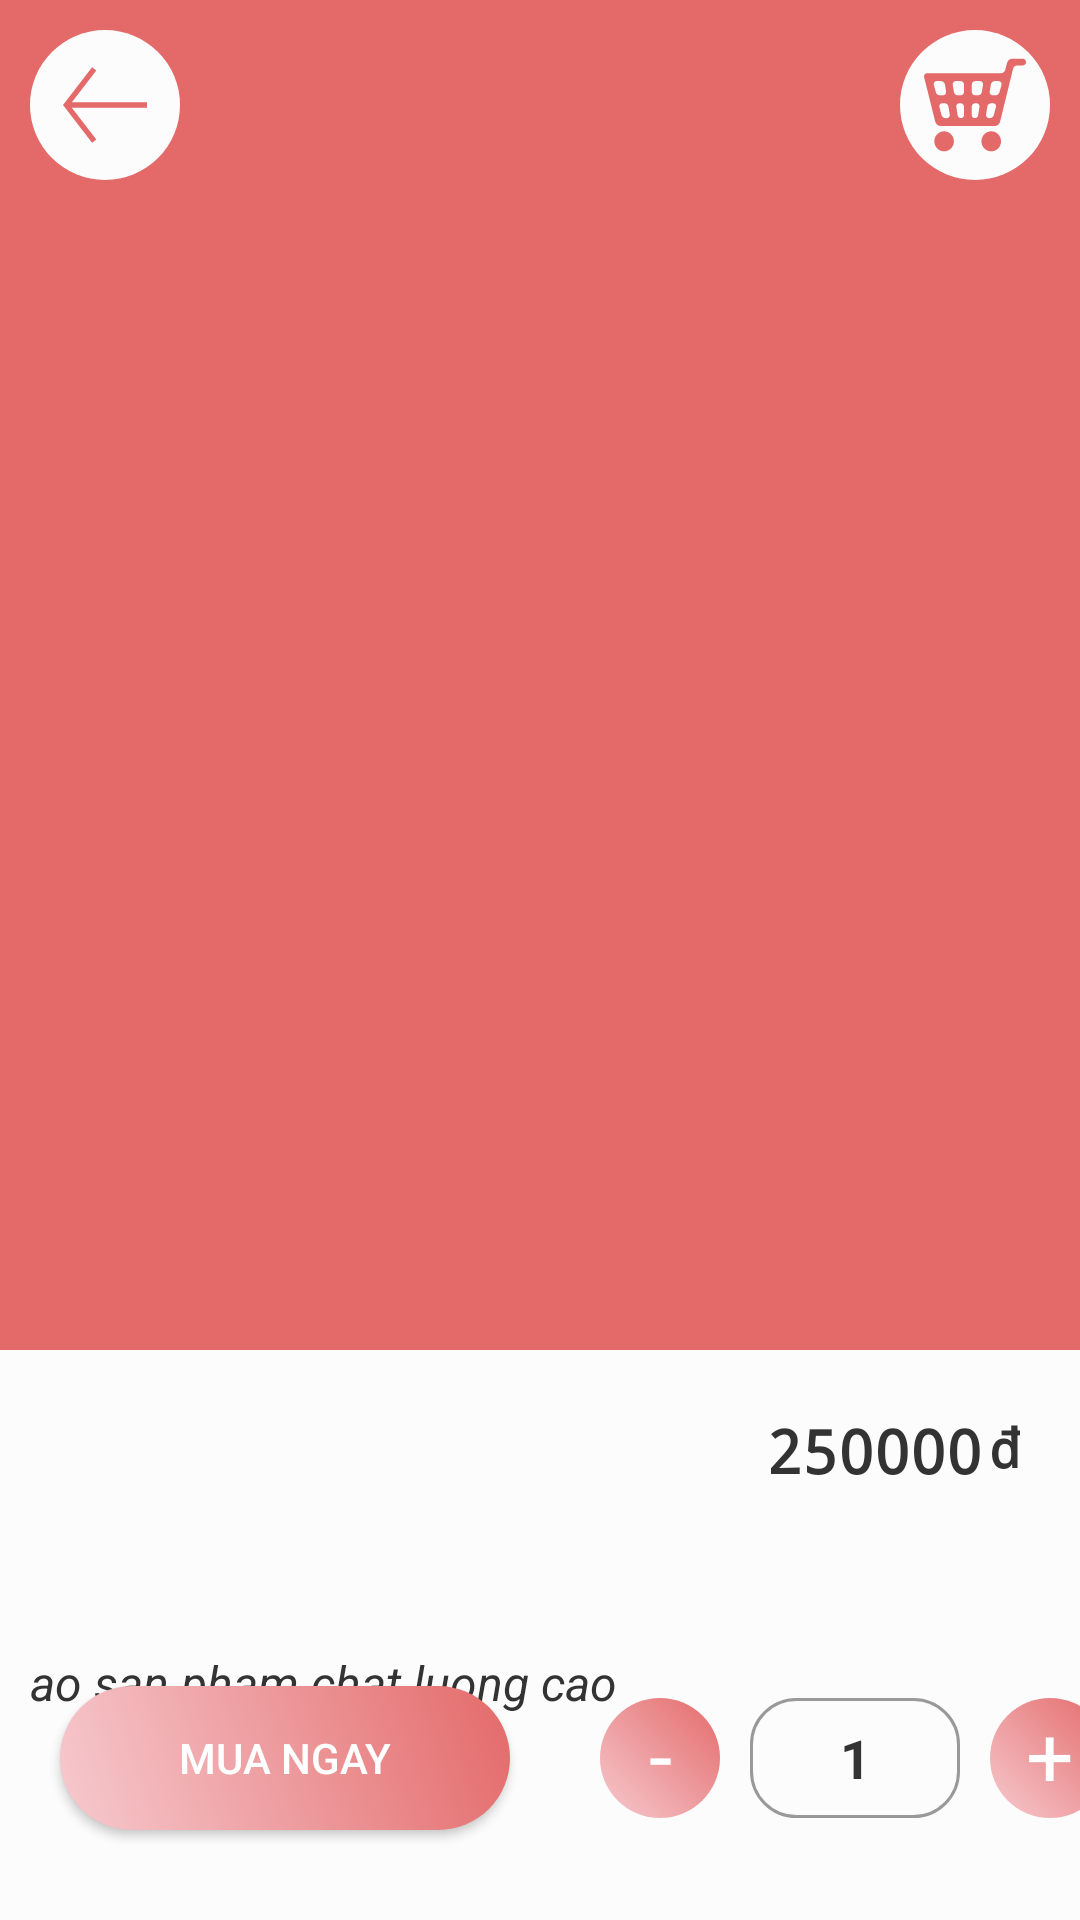

Icons on this 1080*1920 Android screen, each with its box as (x1, y1, x2, y2):
back: (30, 30, 180, 180)
basket: (900, 30, 1050, 180)
